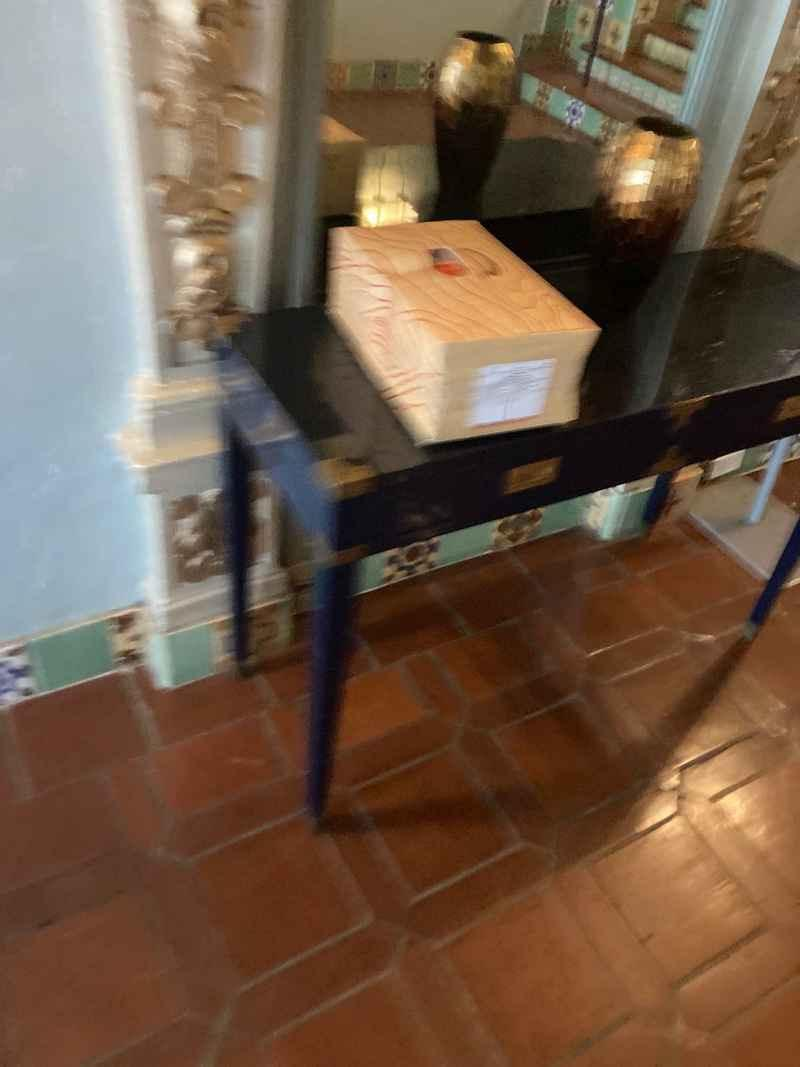package: (319, 216, 600, 453)
